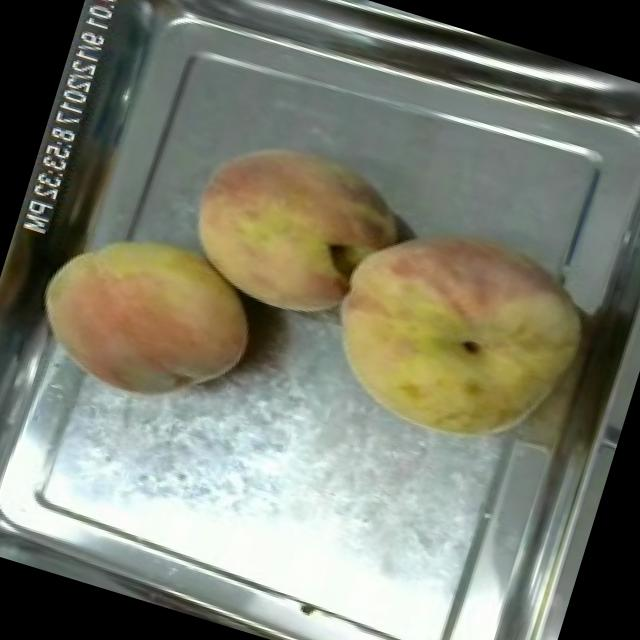Fruit: (297, 190, 609, 480), (9, 199, 277, 435), (167, 115, 426, 343)
